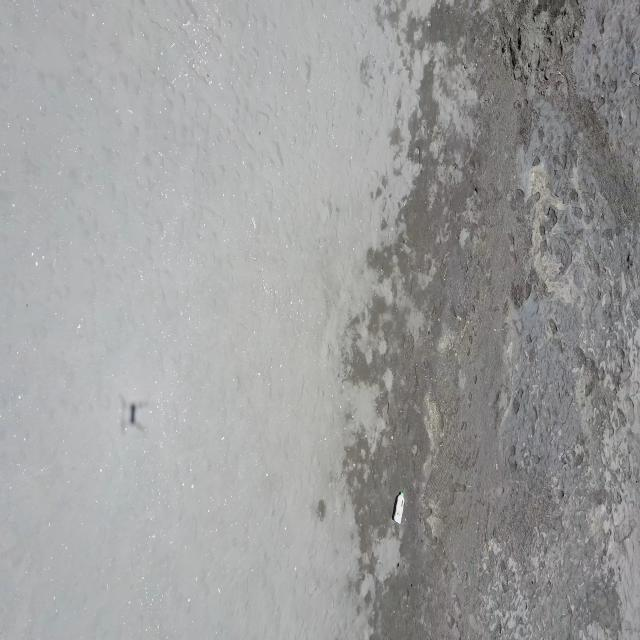plastic-bottle: (392, 493, 405, 526)
